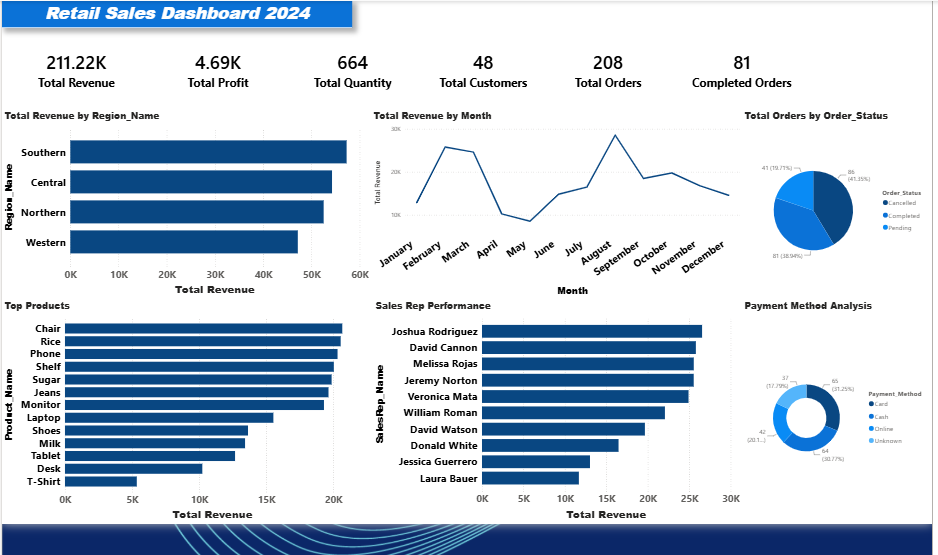

The page's visual inventory and layout, read from the dashboard file:
{"tool":"powerbi","page":{"name":"Page 1","canvas":[1920,1080],"ordinal":0},"visuals":[{"type":"cardVisual","fields":{"Data":["_Measures.Total Revenue"]},"box":[0,57.1,307.6,166.2],"z":0},{"type":"barChart","fields":{"Y":["_Measures.Total Revenue"],"Category":["Regions.Region_Name"]},"box":[0,223.3,761.6,391.9],"z":1000},{"type":"shape","title":"Retail Sales Dashboard 2024","box":[0,0,722.5,55],"z":2000},{"type":"cardVisual","fields":{"Data":["_Measures.Total Profit"]},"box":[307.6,57.1,277.8,166.2],"z":3000},{"type":"cardVisual","fields":{"Data":["_Measures.Total Quantity"]},"box":[585.4,57.1,275.3,166.2],"z":4000},{"type":"cardVisual","fields":{"Data":["_Measures.Total Customers"]},"box":[860.8,57.1,265.4,166.2],"z":5000},{"type":"cardVisual","fields":{"Data":["_Measures.Total Orders"]},"box":[1126.2,57.1,248.1,166.2],"z":6000},{"type":"cardVisual","fields":{"Data":["_Measures.Completed Orders"]},"box":[1374.3,57.1,305.1,166.2],"z":7000},{"type":"lineChart","fields":{"Category":["Orders.Order_Date.Variation.Date Hierarchy.Month"],"Y":["_Measures.Total Revenue"]},"box":[761.6,223.3,766.5,391.9],"z":8000},{"type":"barChart","title":"Top Products","fields":{"Y":["_Measures.Total Revenue"],"Category":["Products.Product_Name"]},"box":[0,615,762.5,465],"z":9000},{"type":"barChart","title":"Sales Rep Performance","fields":{"Y":["_Measures.Total Revenue"],"Category":["Sales_Reps.SalesRep_Name"]},"box":[766.5,615.2,761.6,463.9],"z":10000},{"type":"donutChart","title":"Payment Method Analysis","fields":{"Category":["Orders.Payment_Method"],"Y":["_Measures.Total Orders"]},"box":[1528.1,615.2,391.9,463.9],"z":11000},{"type":"pieChart","fields":{"Y":["_Measures.Total Orders"],"Category":["Orders.Order_Status"]},"box":[1527.5,222.5,392.5,392.5],"z":12000}]}

Visuals, with their boxes on the page's 1920x1080 design canvas (x1, y1, x2, y2). These are canvas units, not pixel positions in the 938x555 screenshot, which may show the page scaled, cropped or inside an application window:
cardVisual - _Measures.Total Revenue: rect(0, 57, 308, 223)
barChart - _Measures.Total Revenue x Regions.Region_Name: rect(0, 223, 762, 615)
"Retail Sales Dashboard 2024" shape: rect(0, 0, 722, 55)
cardVisual - _Measures.Total Profit: rect(308, 57, 585, 223)
cardVisual - _Measures.Total Quantity: rect(585, 57, 861, 223)
cardVisual - _Measures.Total Customers: rect(861, 57, 1126, 223)
cardVisual - _Measures.Total Orders: rect(1126, 57, 1374, 223)
cardVisual - _Measures.Completed Orders: rect(1374, 57, 1679, 223)
lineChart - Orders.Order_Date.Variation.Date Hierarchy.Month x _Measures.Total Revenue: rect(762, 223, 1528, 615)
"Top Products" barChart: rect(0, 615, 762, 1080)
"Sales Rep Performance" barChart: rect(766, 615, 1528, 1079)
"Payment Method Analysis" donutChart: rect(1528, 615, 1920, 1079)
pieChart - _Measures.Total Orders x Orders.Order_Status: rect(1528, 222, 1920, 615)
